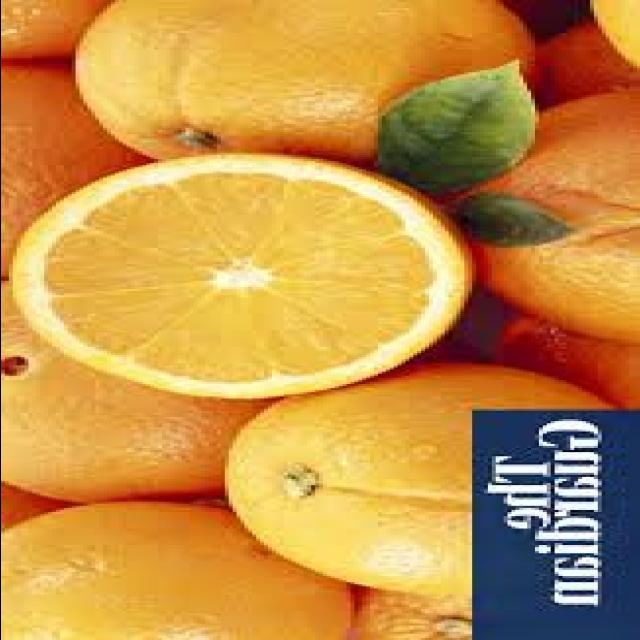orange: (0, 150, 463, 396)
